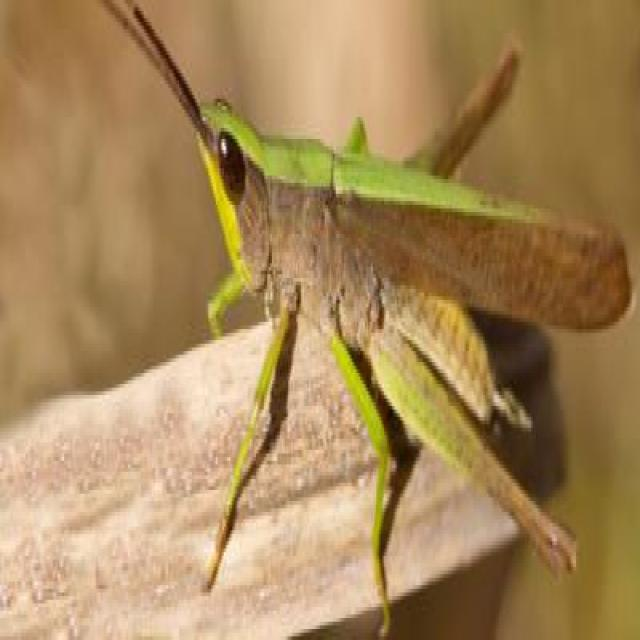antennae: (102, 0, 202, 132), (132, 4, 202, 110)
body: (196, 102, 511, 416)
insect: (102, 1, 637, 631)
legs: (368, 325, 576, 564), (202, 290, 298, 586), (332, 312, 390, 635), (399, 52, 523, 180), (205, 274, 249, 344)
mouthpart: (218, 223, 264, 290)
wings: (337, 149, 634, 338)
